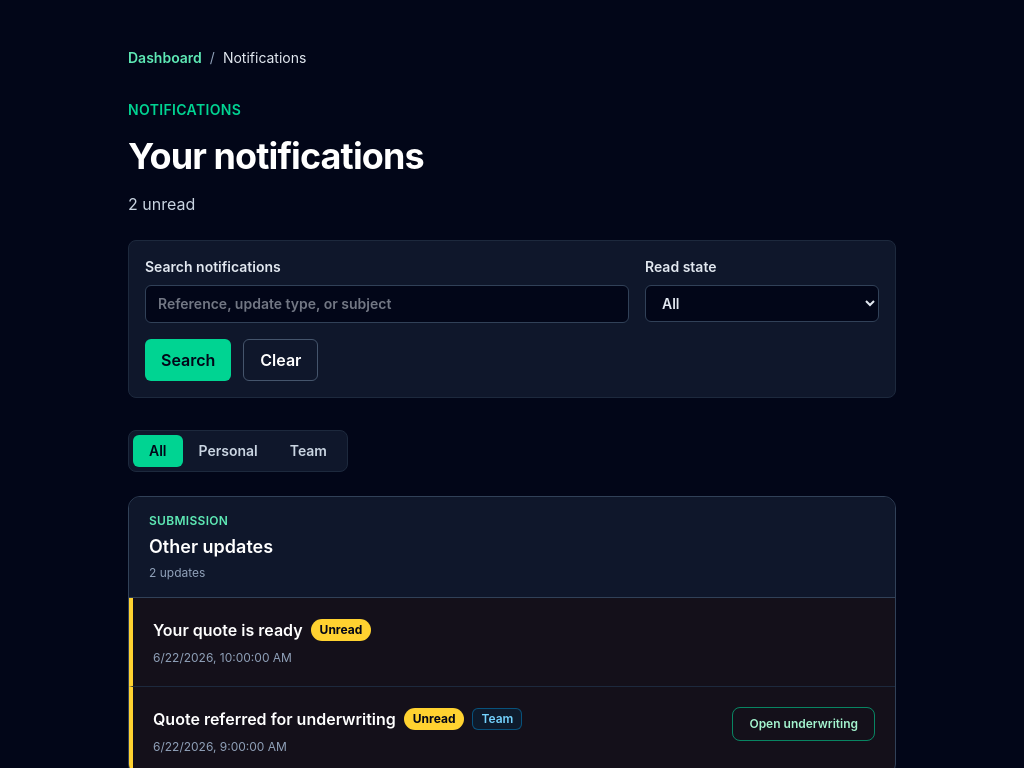
it: NotificationsPage › badges team notifications and filters them with the Team tab
Check: the heading "Quote referred for underwriting" is shown, box top-left (153, 707), bottom-right (396, 731)
Check: the heading "Your quote is ready" is shown, box top-left (153, 618), bottom-right (303, 642)
Note: The Team tab hides the personal item.
Click the tab "Team" at (308, 451), box top-left (274, 435), bottom-right (343, 467)
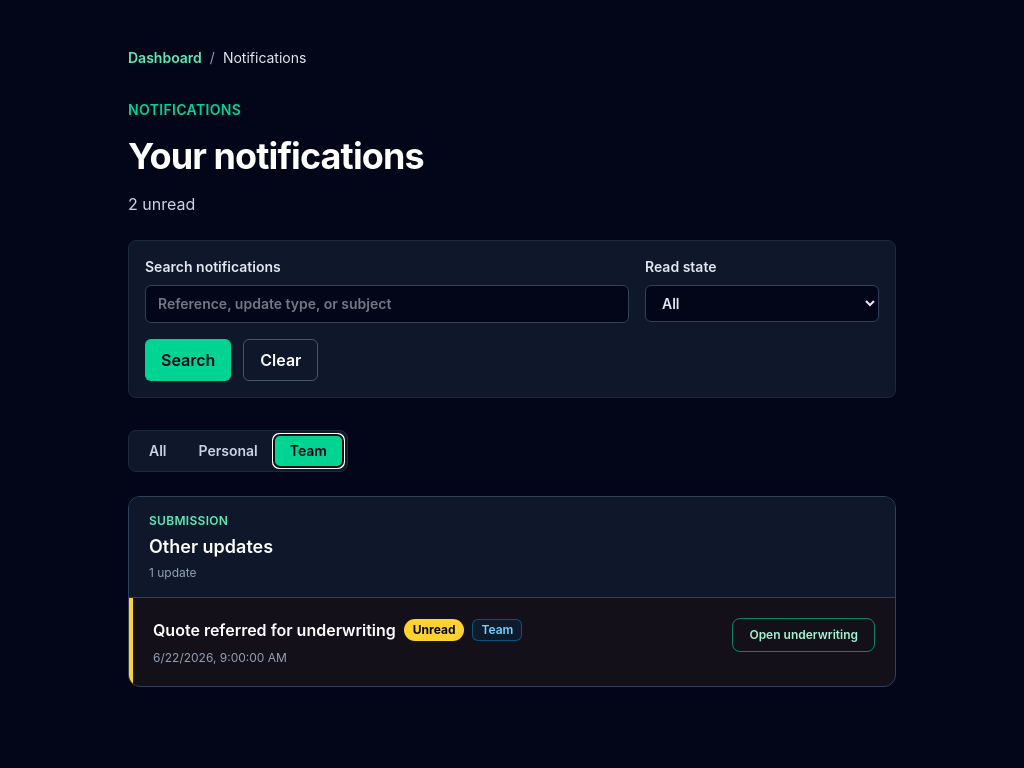
Check: the heading "Quote referred for underwriting" is shown, box top-left (153, 618), bottom-right (396, 642)
Check: the heading "Your quote is ready" is gone
Note: The Personal tab hides the team item.
Click the tab "Personal" at (228, 451), box top-left (182, 435), bottom-right (274, 467)
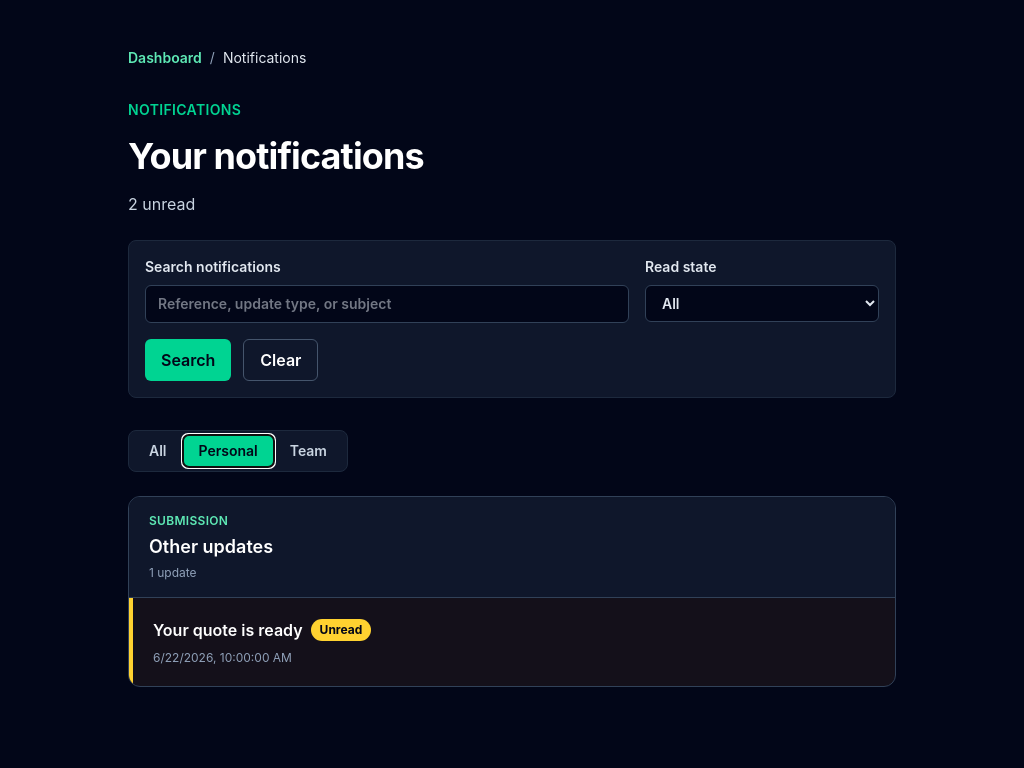
Check: the heading "Your quote is ready" is shown, box top-left (153, 618), bottom-right (303, 642)
Check: the heading "Quote referred for underwriting" is gone
